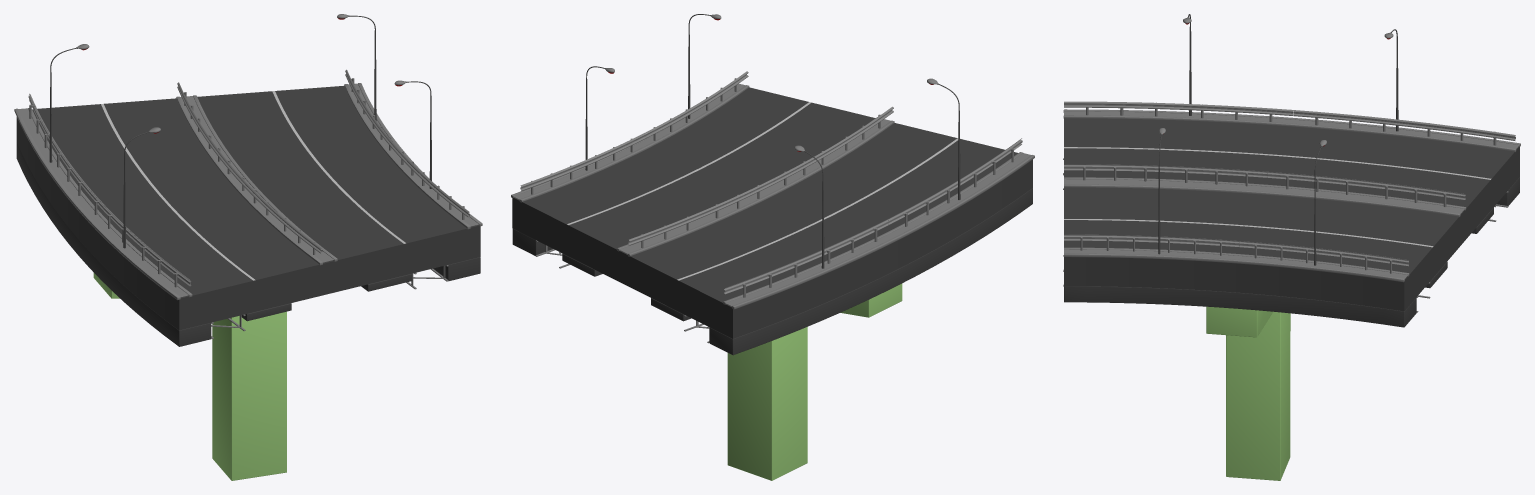
File: SM_highway_platform_curve_10.fbx
3 renders of one model, left to right at view 1: azimuth 30°, elevation 25°; view 2: azimuth 150°, elevation 25°; view 3: azimuth 270°, elevation 25°, orthographic. The views are drawn at different scales.
Visible parts, largest first — view 1: Object1284853; view 2: Object1284853; view 3: Object1284853.
Boxes of the visible parts, bbox=[...] form: Object1284853: bbox=[14, 14, 482, 480]; Object1284853: bbox=[511, 14, 1034, 480]; Object1284853: bbox=[1063, 14, 1520, 480].
Bounding box in the file's own units: 1059 × 1118 × 1202.
